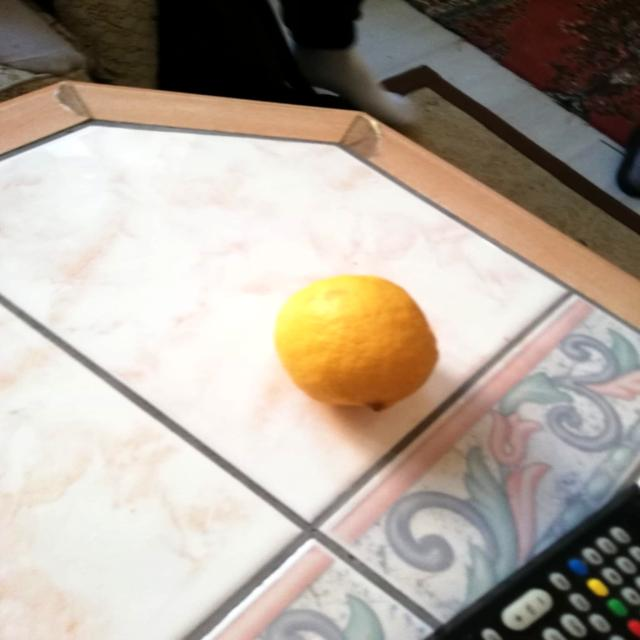lemon: (270, 269, 440, 419)
